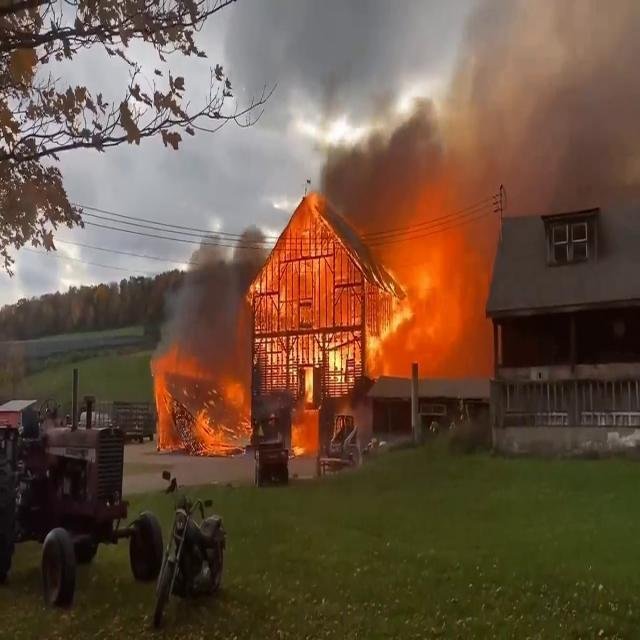Fire: (253, 196, 488, 386), (146, 344, 232, 456)
Smoke: (358, 0, 640, 228), (151, 218, 277, 366)
